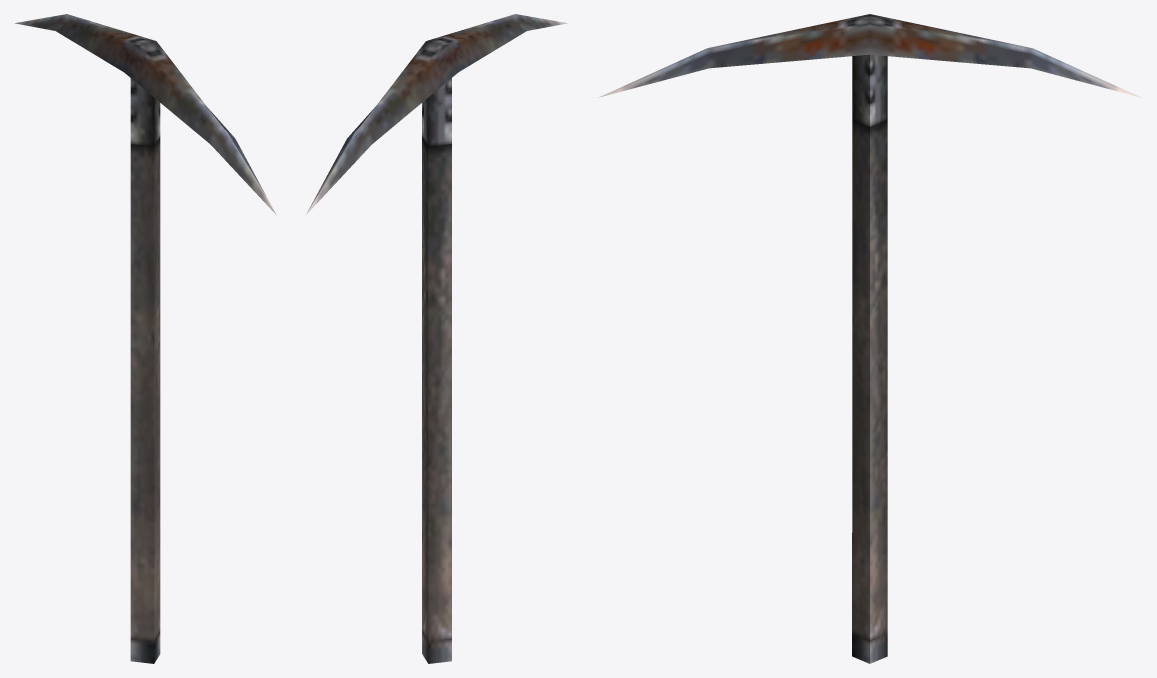
The model's file is m_kirka01.glb.
3 renders of one model, left to right at view 1: azimuth 30°, elevation 25°; view 2: azimuth 150°, elevation 25°; view 3: azimuth 270°, elevation 25°, orthographic. The views are drawn at different scales.
Visible parts, largest first — view 1: m_kirka01-col; view 2: m_kirka01-col; view 3: m_kirka01-col.
Boxes of the visible parts, x1,y1,x2,y2 form: m_kirka01-col: (15, 14, 276, 663); m_kirka01-col: (306, 14, 567, 663); m_kirka01-col: (598, 14, 1141, 663).
Bounding box in the file's own units: 0.0724 × 0.9867 × 0.7663.
1 material, 1 textured.
